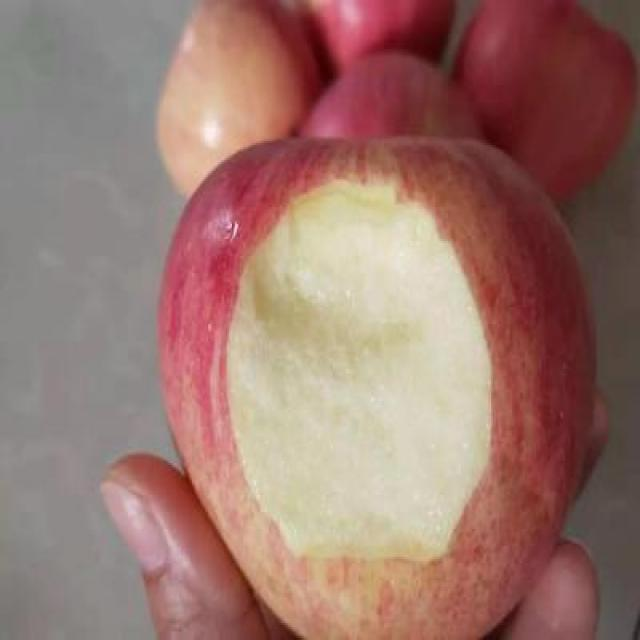Apple: (152, 130, 603, 640)
